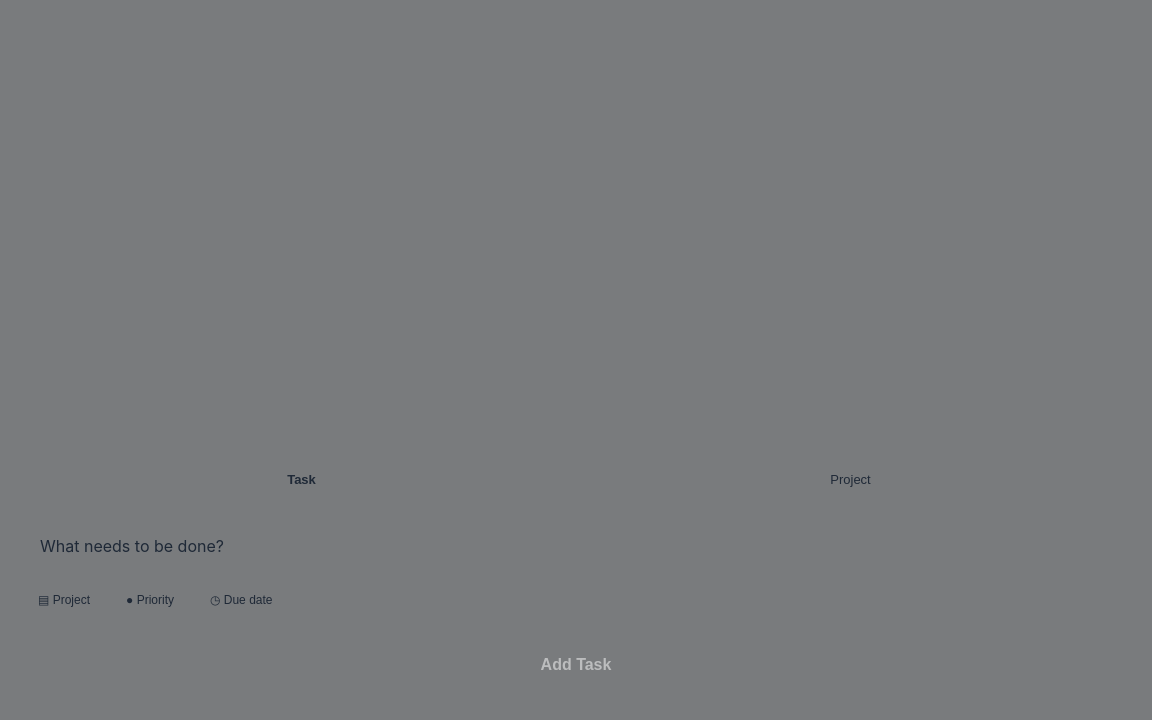
Test case: QuickCapture › enables submit when title has content
Type "Test task" into the field with placeholder "What needs to be done?" at [576, 546], box [24,522,1128,570]
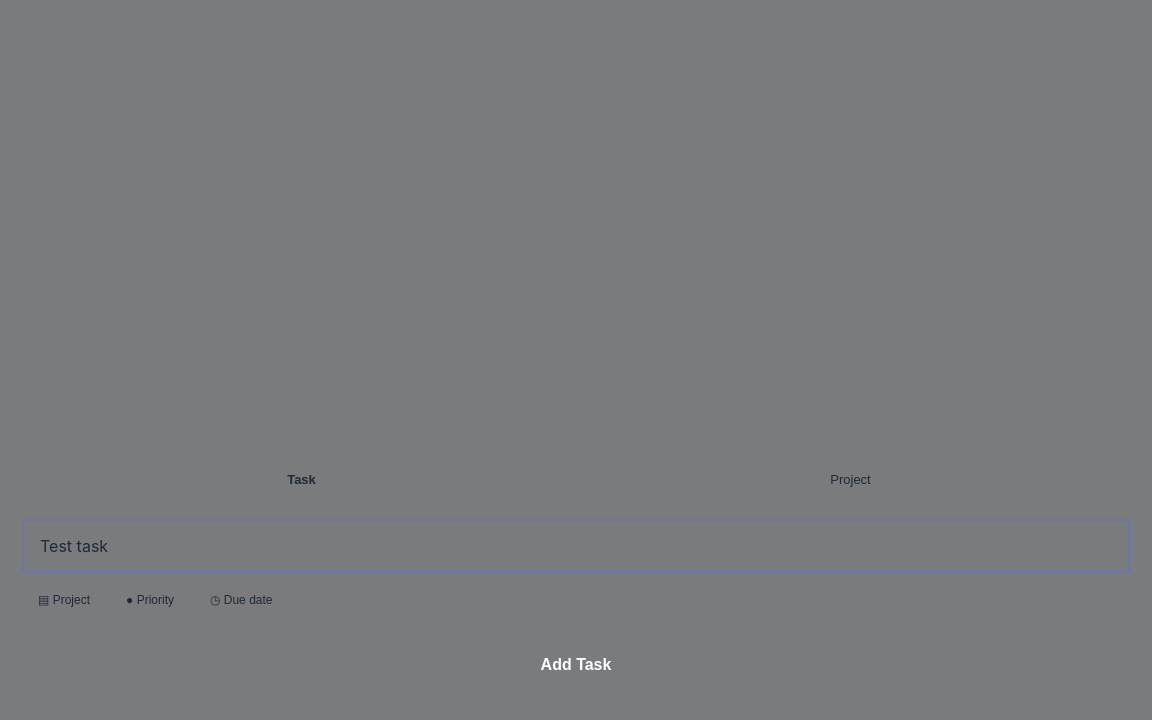
Now the button "Add Task" is enabled, box [24,642,1128,688]
